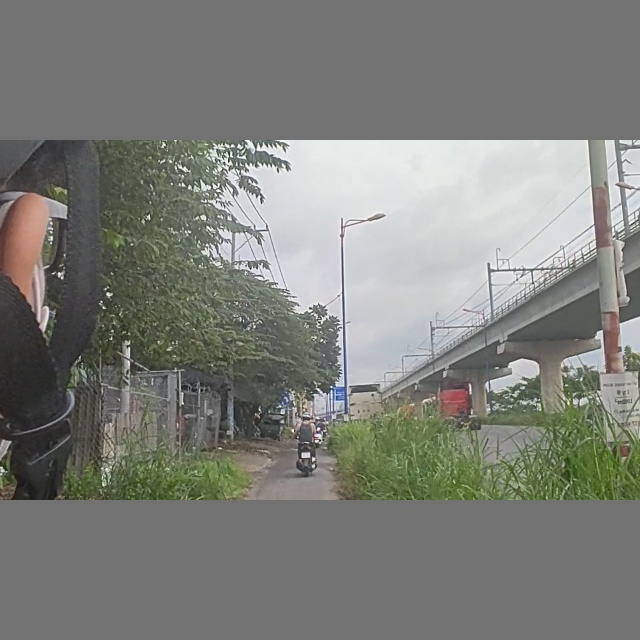I.409: (279, 394, 290, 405)
